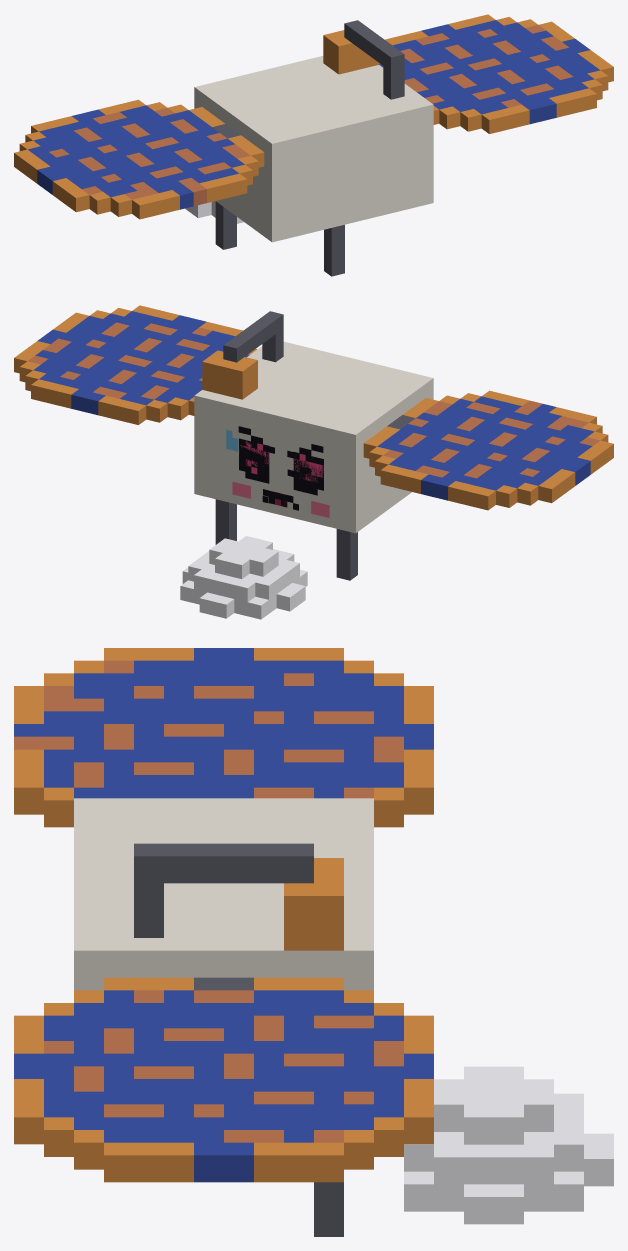
Rendered from insight.obj.
3 views of the same model, one above another, from view 1: azimuth 30°, elevation 25°; view 2: azimuth 150°, elevation 25°; view 3: azimuth 270°, elevation 25° (orthographic). The views are drawn at different scales.
Parts seen in each view (by area): view 1: cubierta, panel_insight, panel_borde, polvo, brazo, patas, palita, domo; view 2: cubierta, panel_insight, panel_borde, domo, polvo, patas, palita, brazo, cara_feliz_ojos, cara_espiral_ojos, cara_enamorada_corazon, cara_enojado_cejas (+2 smaller); view 3: panel_insight, cubierta, panel_borde, domo, polvo, brazo, palita, patas.
Boxes of the visible parts, x1=… form: cubierta: x1=194, y1=56, x2=433, y2=242; panel_insight: x1=28, y1=20, x2=599, y2=209; panel_borde: x1=14, y1=14, x2=613, y2=219; polvo: x1=49, y1=25, x2=573, y2=206; brazo: x1=344, y1=20, x2=404, y2=99; patas: x1=212, y1=124, x2=344, y2=276; palita: x1=323, y1=30, x2=378, y2=74; domo: x1=185, y1=201, x2=243, y2=223; cubierta: x1=194, y1=341, x2=433, y2=533; panel_insight: x1=33, y1=311, x2=594, y2=500; panel_borde: x1=14, y1=305, x2=613, y2=510; domo: x1=180, y1=536, x2=307, y2=619; polvo: x1=28, y1=322, x2=600, y2=478; patas: x1=215, y1=415, x2=415, y2=580; palita: x1=202, y1=350, x2=257, y2=399; brazo: x1=223, y1=311, x2=283, y2=362; cara_feliz_ojos: x1=245, y1=440, x2=317, y2=495; cara_espiral_ojos: x1=239, y1=438, x2=323, y2=490; cara_enamorada_corazon: x1=239, y1=441, x2=323, y2=482; cara_enojado_cejas: x1=238, y1=426, x2=323, y2=459; panel_insight: x1=14, y1=648, x2=433, y2=1182; cubierta: x1=74, y1=798, x2=373, y2=990; panel_borde: x1=14, y1=648, x2=433, y2=1182; domo: x1=404, y1=1066, x2=613, y2=1224; polvo: x1=14, y1=660, x2=403, y2=1142; brazo: x1=134, y1=843, x2=313, y2=937; palita: x1=284, y1=858, x2=343, y2=950; patas: x1=194, y1=977, x2=343, y2=1236.
Bounding box in the file's own units: 1.6 × 0.56 × 0.8.
